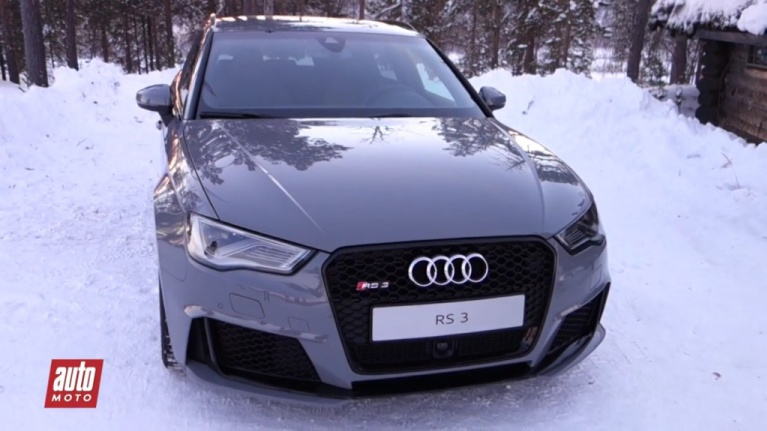audi: (397, 250, 499, 289)
